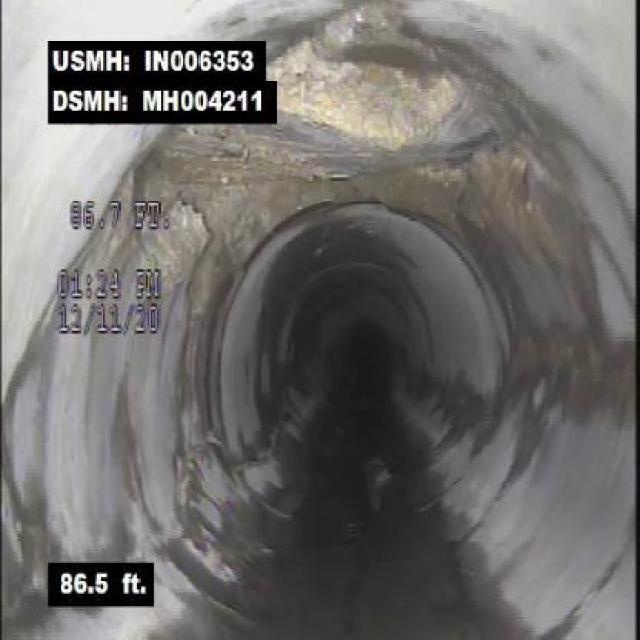Crack: (534, 322, 632, 403), (166, 429, 217, 542)
Hole: (260, 8, 518, 226), (48, 135, 222, 300)
